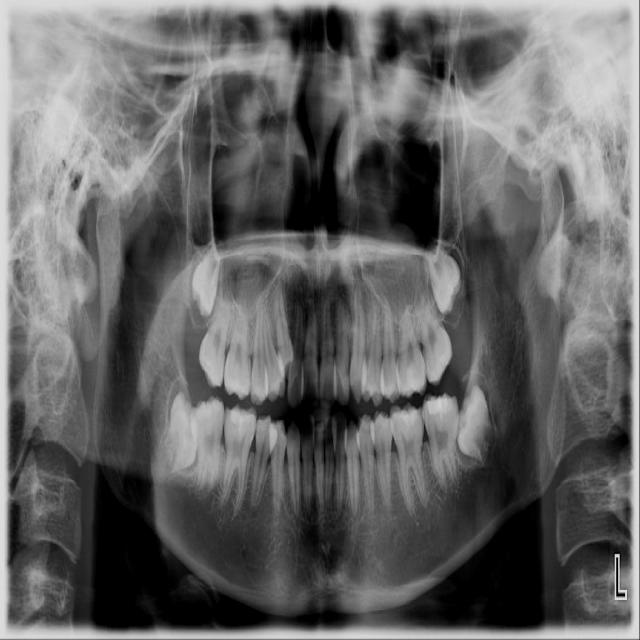impacted tooth: (456, 383, 496, 465), (161, 391, 196, 475), (426, 247, 461, 317), (193, 240, 220, 316)
